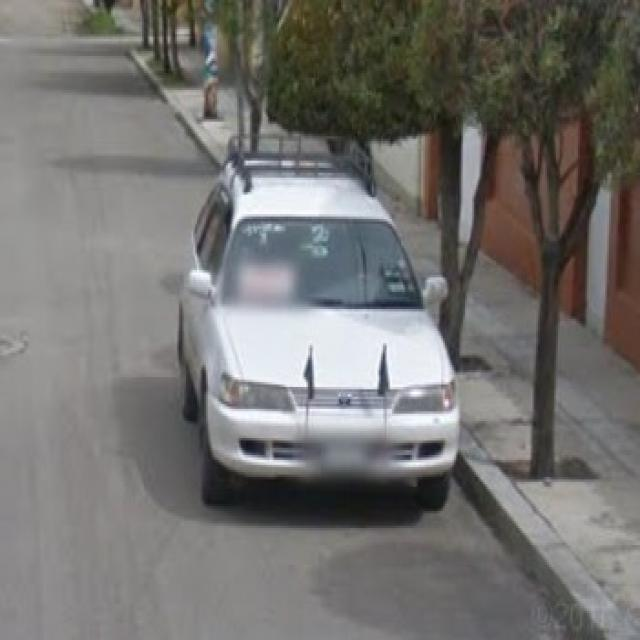cars: (175, 156, 464, 503)
